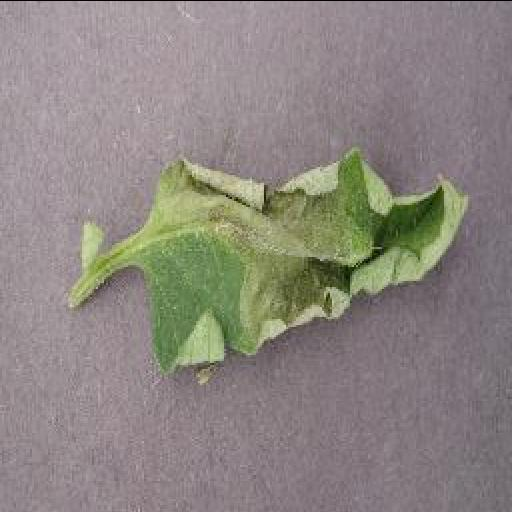disease_tomato: (134, 140, 474, 376)
